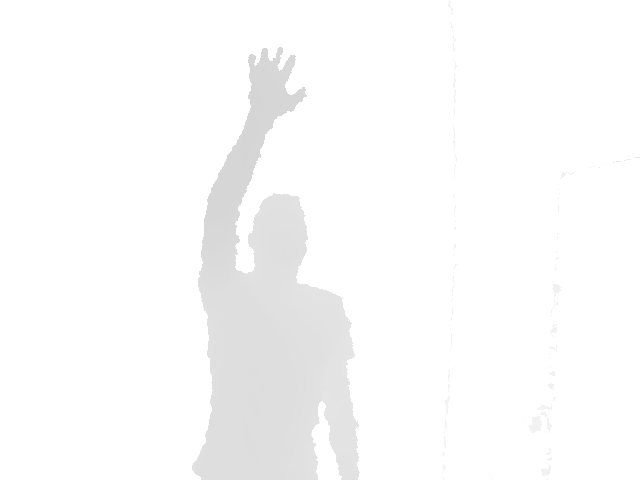hand: (245, 47, 308, 119)
head: (247, 192, 308, 277)
person: (190, 47, 362, 480)
